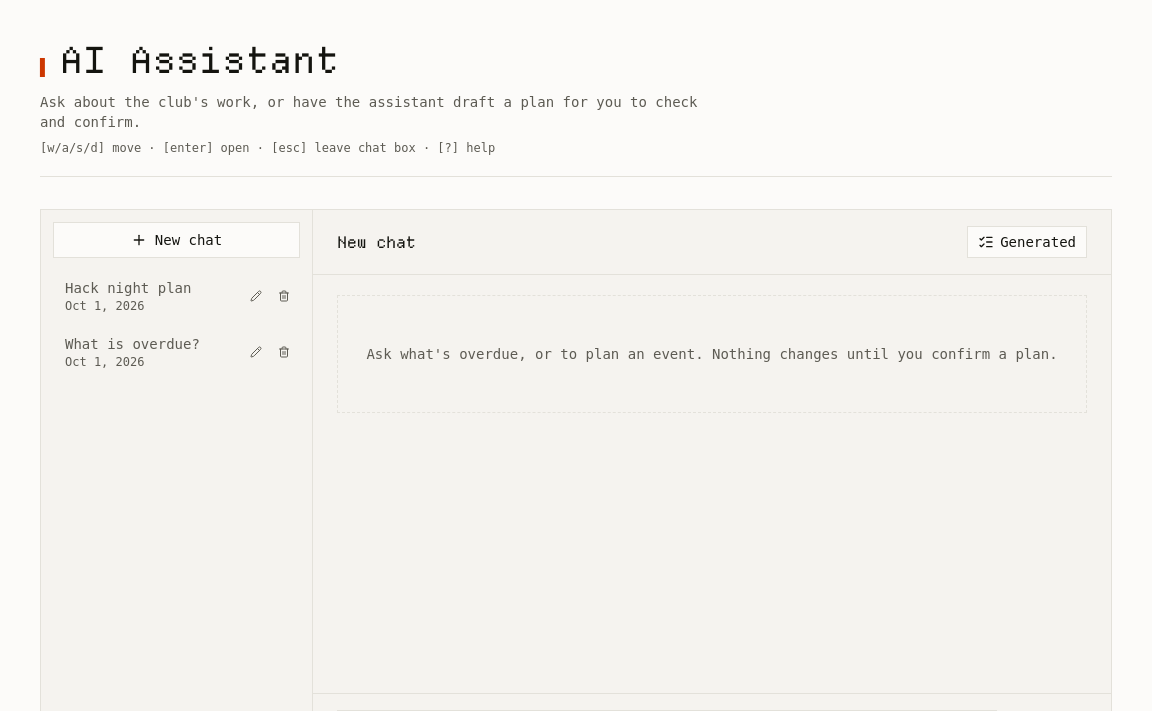
renames a chat in place, and cancels on Escape without asking the server
The width and height of the screenshot is (1152, 711).
Step 1. Click the button named "Rename Hack night plan" → (256, 296), box [244,284,268,308]
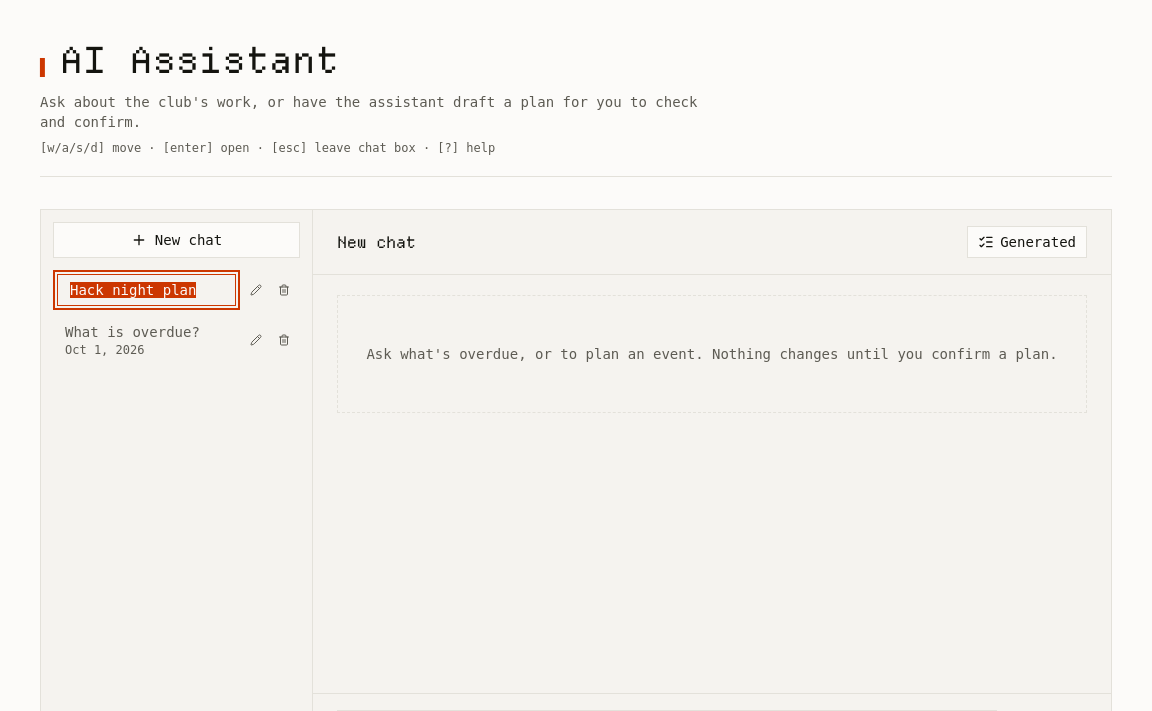
Step 2. Replace the text in the field named "Chat title" with "Poker night" → (146, 290), box [57,274,236,306]
Then press Enter
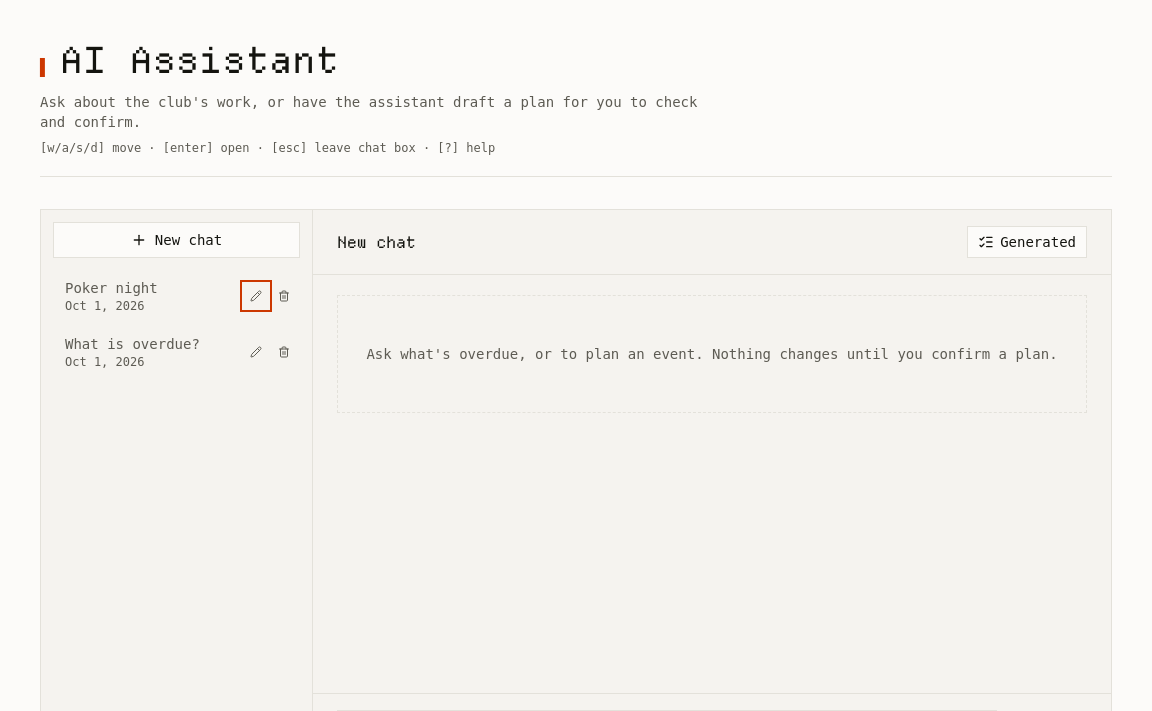
expect the link "Poker night Oct 1, 2026" is shown: met, box [65,280,158,313]
Step 3. Click the button named "Rename What is overdue?" → (256, 352), box [244,340,268,364]
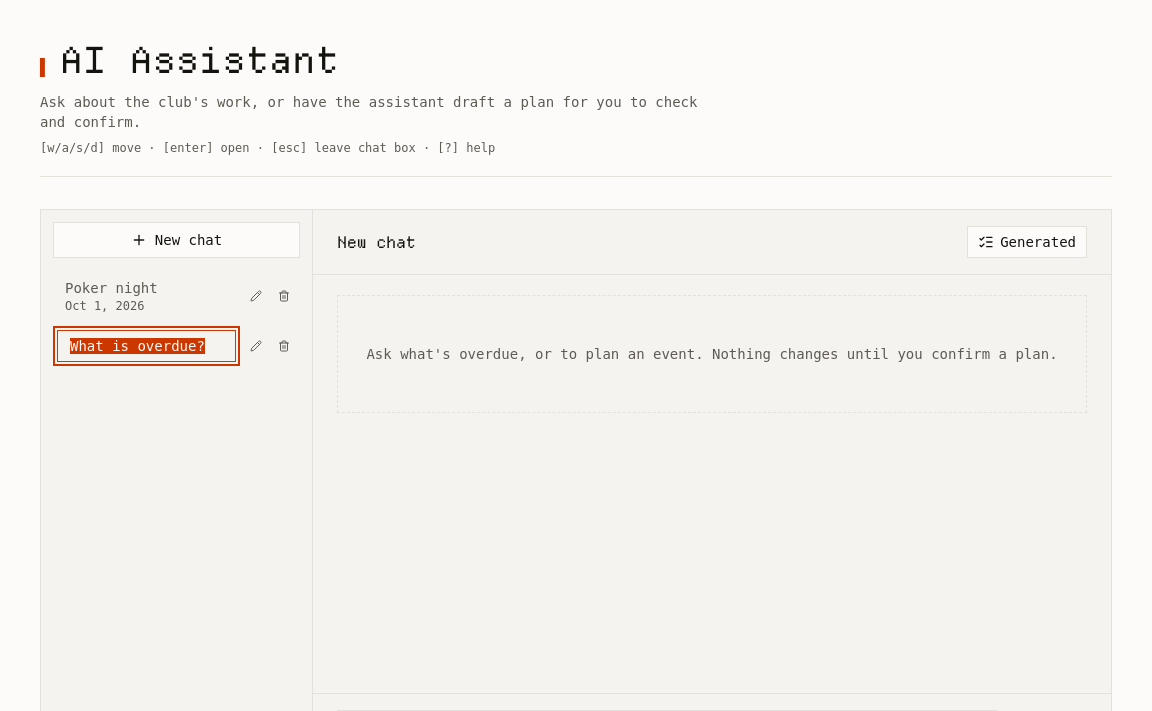
Step 4. Type " changed" into the field named "Chat title" → (146, 346), box [57,330,236,362]
Then press Escape
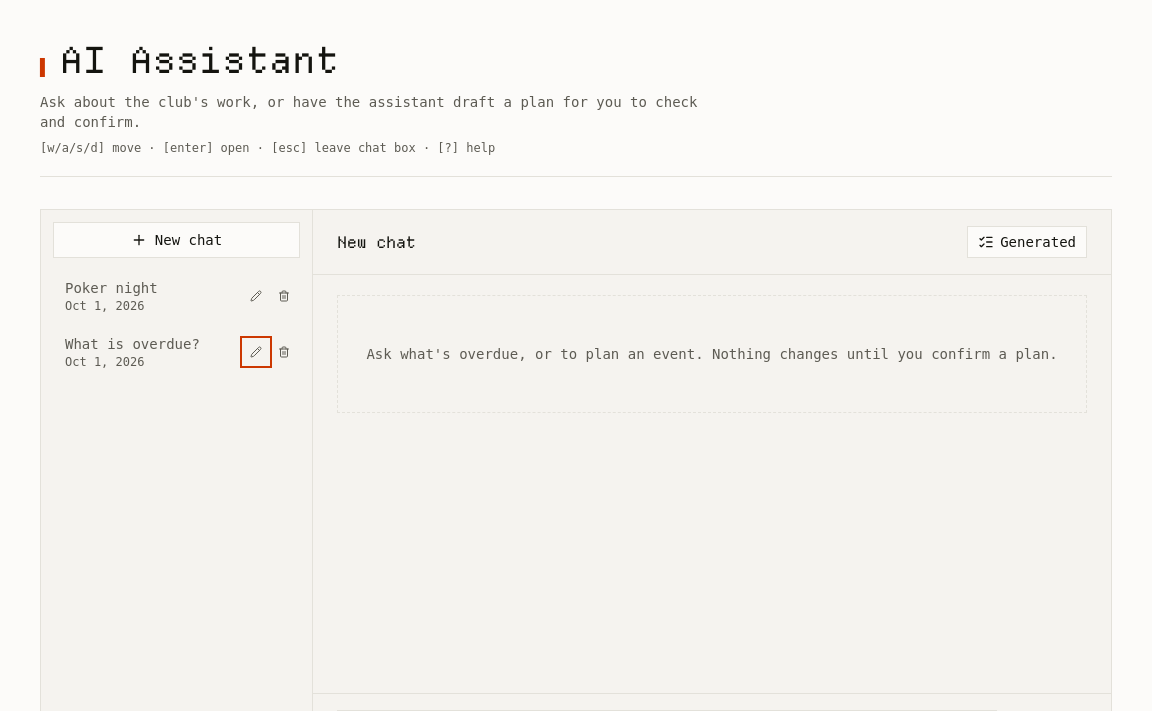
expect the link "What is overdue? Oct 1, 2026" is shown: met, box [65,336,200,369]
